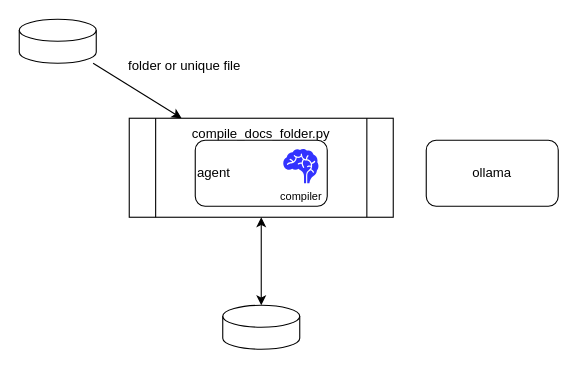
The diagram is 578 pixels wide and 369 high, and some of its shapes have lost their labels. The shapes that lost their labels are listed below. From the top down, each one's centre as x and y in pixels, then its label:
At (57,40): "docs".
At (261,326): "context/".
